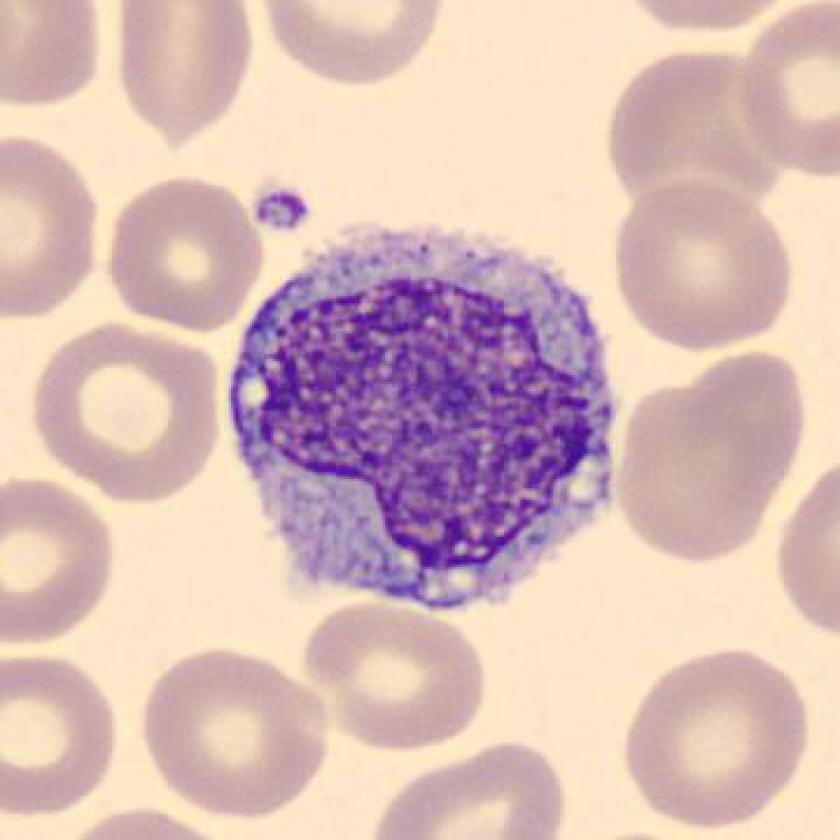monocyte: (202, 195, 645, 635)
